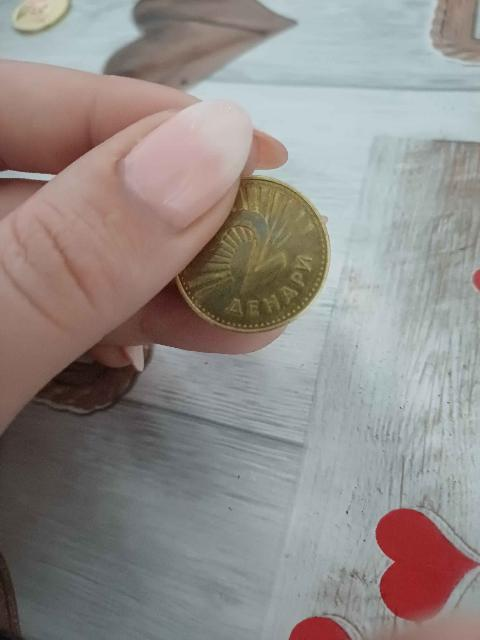coin: (177, 176, 330, 332)
